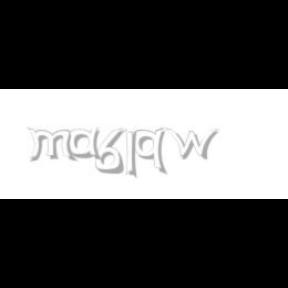6: (96, 128, 124, 176)
a: (70, 128, 106, 160)
l: (125, 128, 141, 180)
m: (26, 128, 78, 162)
q: (133, 128, 169, 176)
w: (164, 128, 224, 160)
